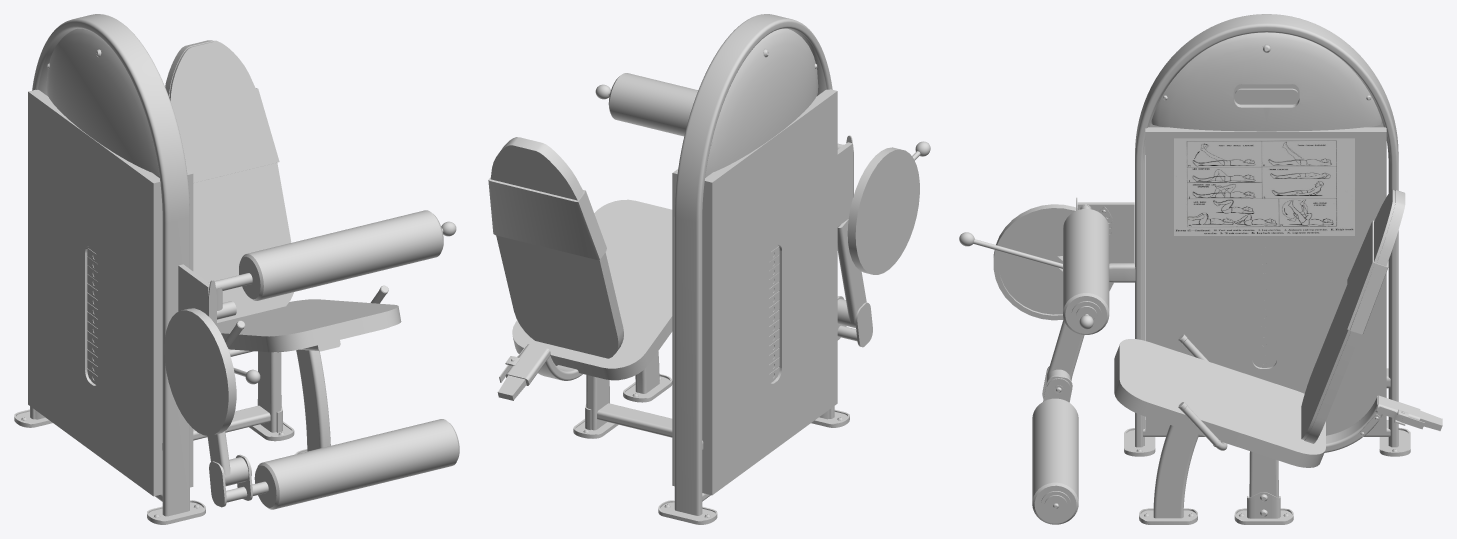
File: LegMachine.FBX
The picture shows the model from 3 angles, left to right: view 1: azimuth 30°, elevation 25°; view 2: azimuth 150°, elevation 25°; view 3: azimuth 270°, elevation 25°; orthographic projection. The views are drawn at different scales.
Visible parts, largest first — view 1: Krse, Shfaf, 7ded, msamer, BLACK, wznat; view 2: Krse, Shfaf, 7ded, BLACK, msamer, wznat; view 3: Krse, Shfaf, 7ded, Wr2a, BLACK, wznat, msamer, REd.
Boxes of the visible parts, x1,y1,x2,y2 form: Krse: (46, 28, 459, 509); Shfaf: (28, 89, 193, 496); 7ded: (30, 14, 388, 516); msamer: (21, 48, 443, 517); BLACK: (14, 282, 385, 524); wznat: (87, 248, 97, 383); Krse: (488, 28, 818, 380); Shfaf: (672, 89, 837, 495); 7ded: (498, 14, 919, 515); BLACK: (497, 144, 849, 524); msamer: (505, 48, 920, 517); wznat: (769, 246, 779, 382); Krse: (1032, 32, 1405, 524); Shfaf: (1145, 123, 1386, 433); 7ded: (993, 14, 1441, 518); Wr2a: (1174, 138, 1354, 235); BLACK: (998, 204, 1442, 524); wznat: (1252, 241, 1276, 366); msamer: (973, 44, 1408, 518); REd: (959, 88, 1424, 429).
Size of the model in its own units: 110 by 167 by 172.
